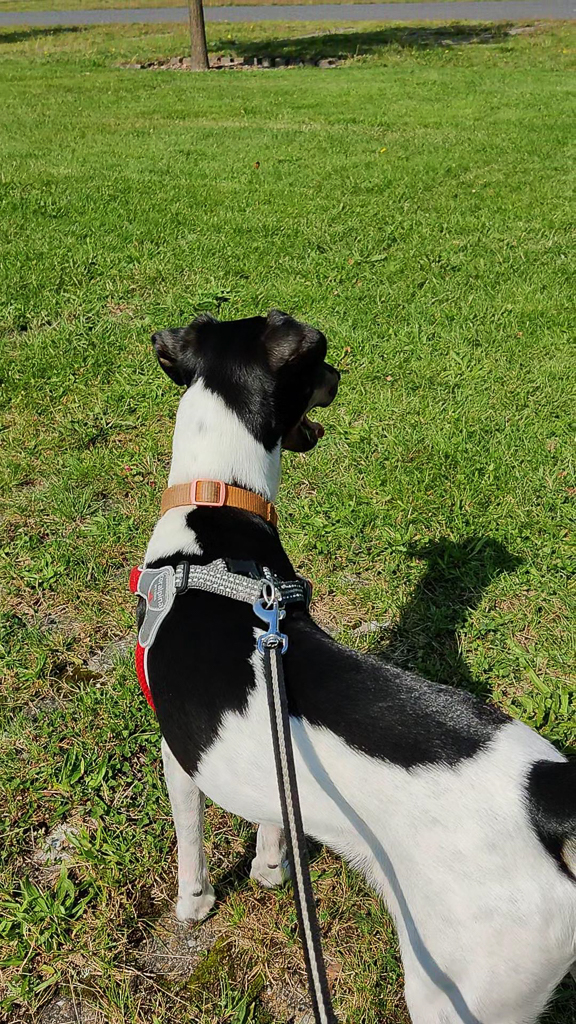Dog: (109, 295, 576, 1024)
